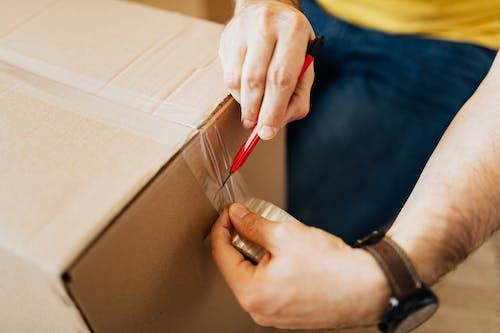knife: (222, 122, 261, 188)
